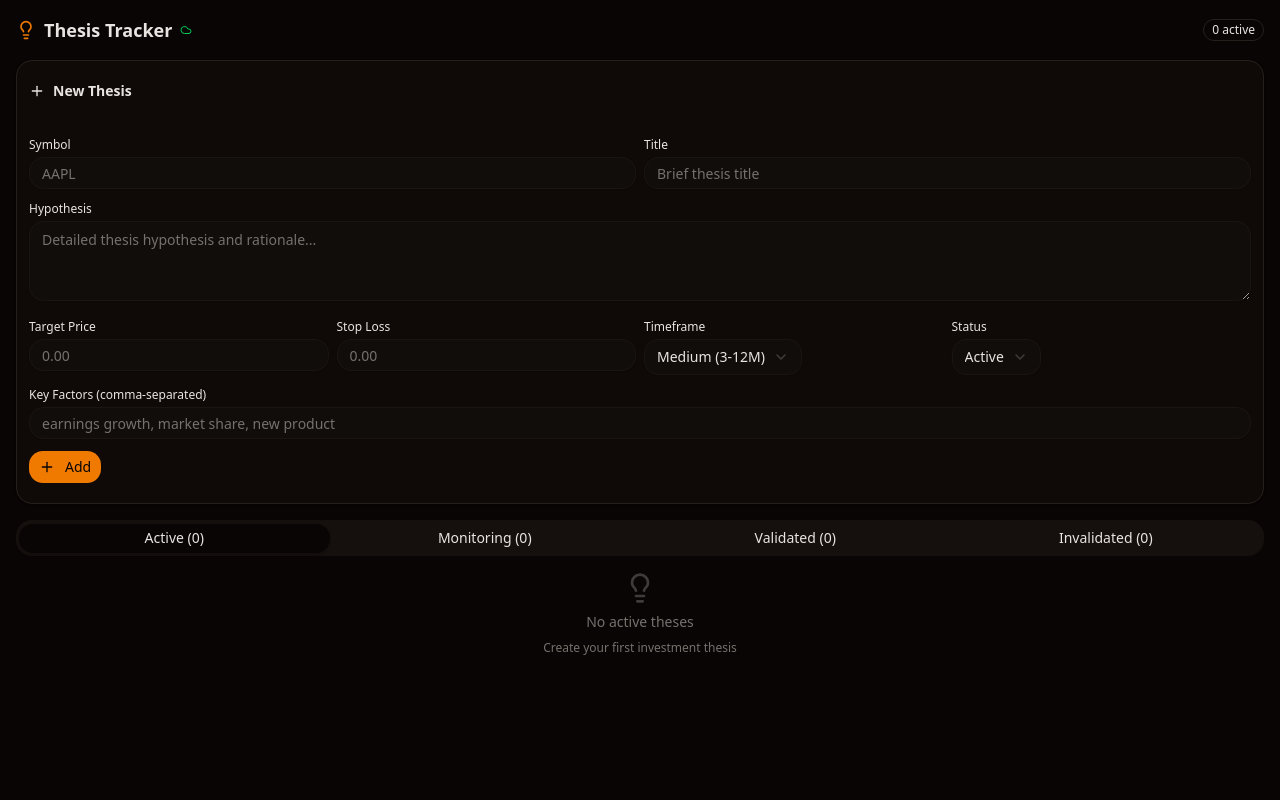
Test: ThesisTracker › Timeframe Selection › shows all timeframe options
The image size is (1280, 800).
What coordinates should you click on to do the following:
click the dropdown labelled "Medium (3-12M)"
I would click on:
 (723, 357)
Its box is [644,339,802,375].
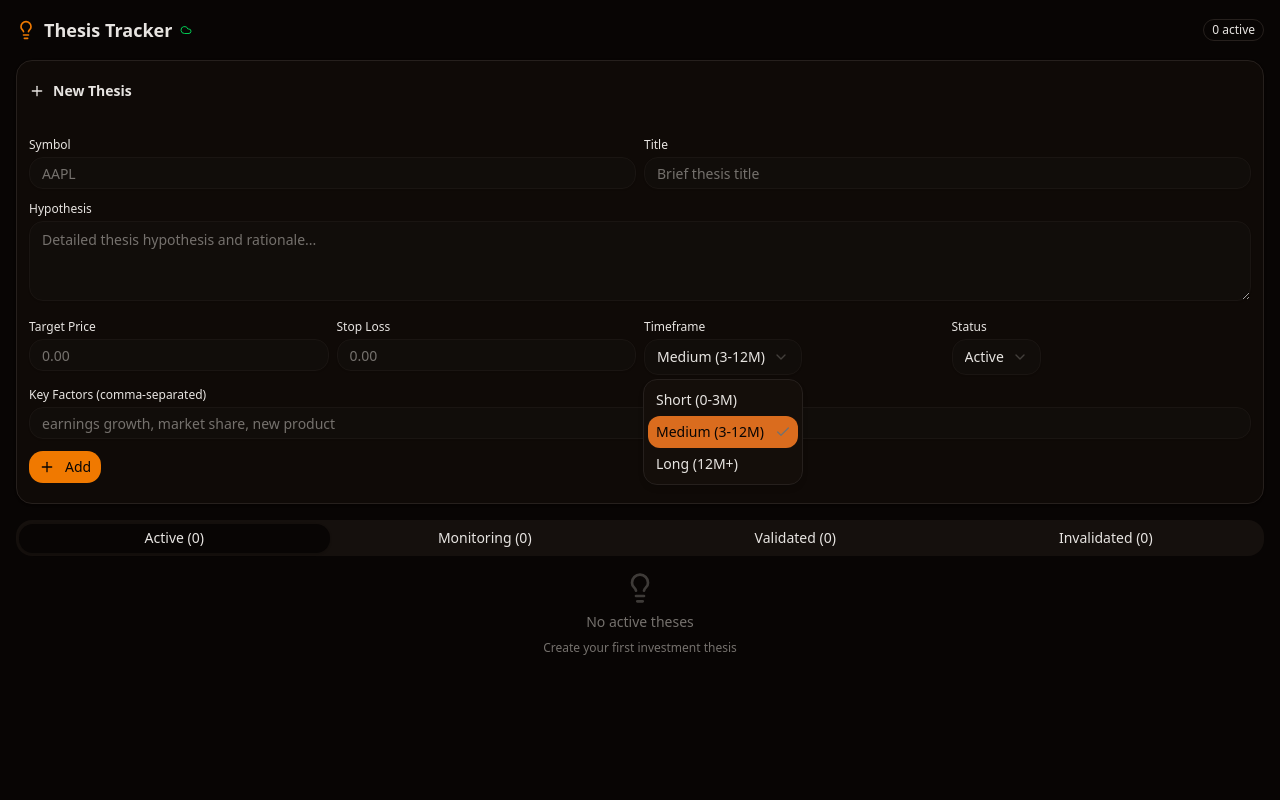
Expected: the option "Short (0-3M)" is shown, [656,390,737,409]
Expected: the option "Medium (3-12M)" is shown, [648,416,798,448]
Expected: the option "Long (12M+)" is shown, [656,454,738,473]
